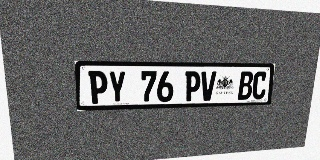6: (157, 71, 174, 102)
7: (140, 71, 157, 103)
B: (238, 71, 254, 100)
C: (251, 71, 268, 99)
P: (88, 71, 108, 104), (184, 71, 201, 101)
V: (200, 71, 216, 101)
Y: (108, 71, 126, 103)
